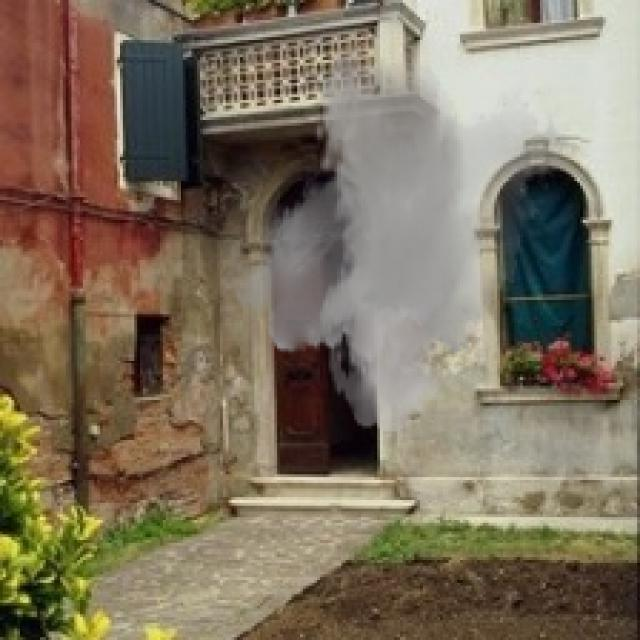smoke: (223, 43, 580, 434)
